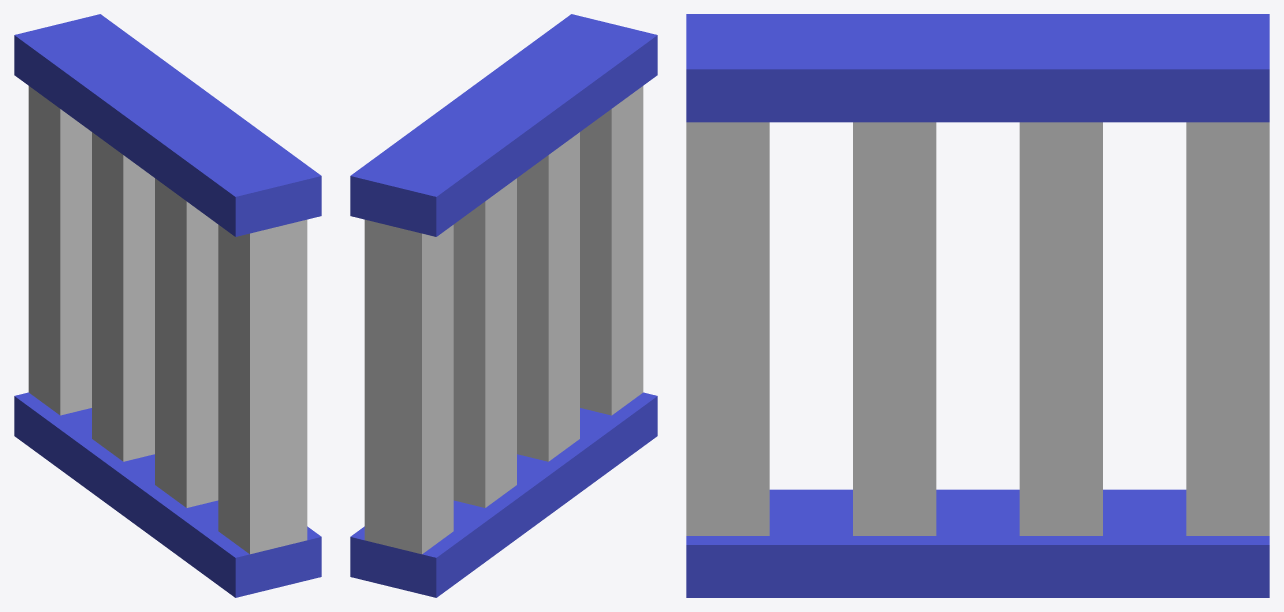
File: door.fbx
3 renders of one model, left to right at view 1: azimuth 30°, elevation 25°; view 2: azimuth 150°, elevation 25°; view 3: azimuth 270°, elevation 25°, orthographic. The views are drawn at different scales.
Visible parts, largest first — view 1: Cube; view 2: Cube; view 3: Cube.
Part boxes in pixels (x1,y1,x2,y2): Cube: (14,14,321,597); Cube: (350,14,657,597); Cube: (686,14,1269,597).
Size of the model in its own units: 45 by 200 by 200.
